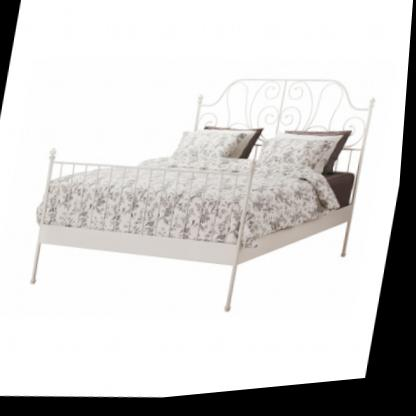Bed: (20, 50, 386, 345)
